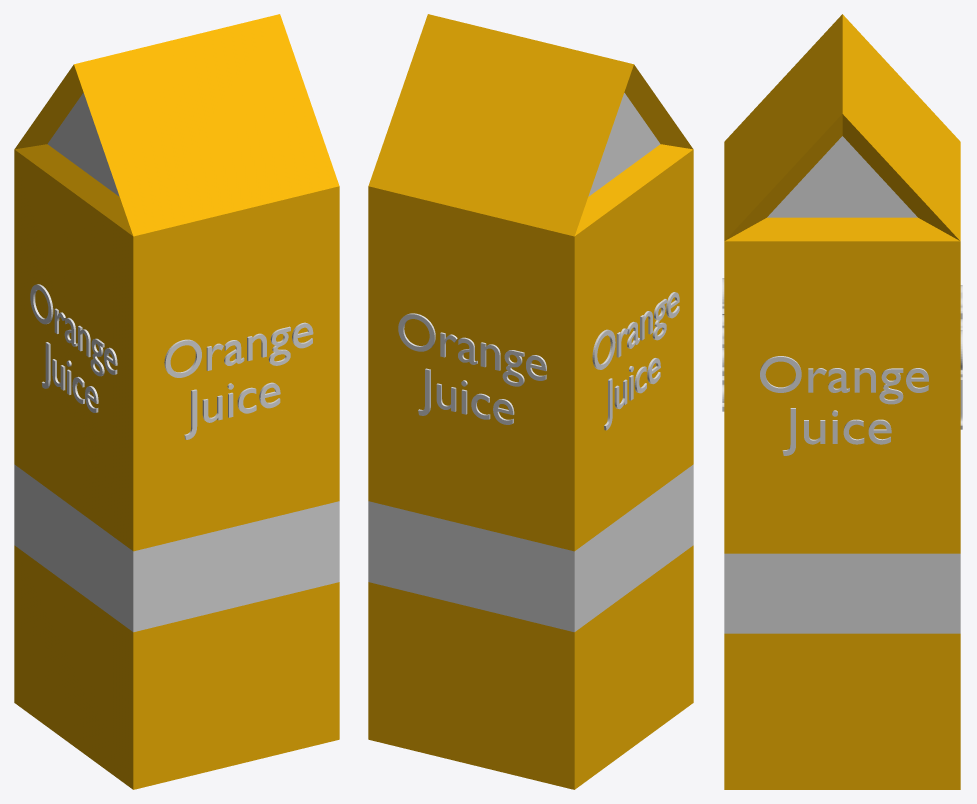
File: OrangeJuice.fbx
3 renders of one model, left to right at view 1: azimuth 30°, elevation 25°; view 2: azimuth 150°, elevation 25°; view 3: azimuth 270°, elevation 25°, orthographic.
Visible parts, largest first — view 1: OrangeJuice; view 2: OrangeJuice; view 3: OrangeJuice.
Part boxes in pixels (bbox=[...]): OrangeJuice: bbox=[14, 14, 339, 789]; OrangeJuice: bbox=[368, 14, 693, 789]; OrangeJuice: bbox=[722, 14, 962, 789].
Bounding box in the file's own units: 65.15 × 202 × 65.15.
